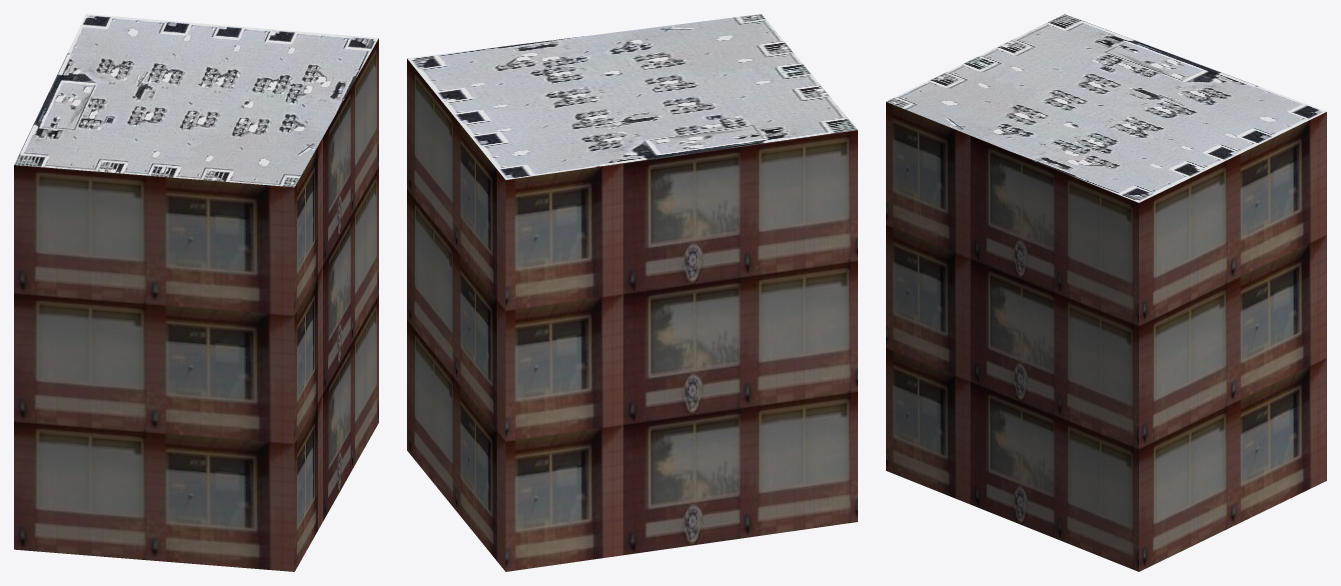
The model's file is ResTex__3071.fbx.
3 views of the same model, side by side, from view 1: azimuth 30°, elevation 25°; view 2: azimuth 150°, elevation 25°; view 3: azimuth 270°, elevation 25° (orthographic). The views are drawn at different scales.
Parts seen in each view (by area): view 1: CityEngineMaterial_13_m, CityEngineMaterial_m; view 2: CityEngineMaterial_13_m, CityEngineMaterial_m; view 3: CityEngineMaterial_13_m, CityEngineMaterial_m.
Part boxes in pixels (x1=…): CityEngineMaterial_13_m: x1=14, y1=38, x2=378, y2=571; CityEngineMaterial_m: x1=14, y1=14, x2=378, y2=187; CityEngineMaterial_13_m: x1=407, y1=59, x2=857, y2=571; CityEngineMaterial_m: x1=407, y1=14, x2=857, y2=179; CityEngineMaterial_13_m: x1=886, y1=102, x2=1326, y2=571; CityEngineMaterial_m: x1=886, y1=14, x2=1326, y2=202.
Size of the model in its own units: 9.88 by 9 by 9.74.
Materials: 2 (2 with a texture image).
